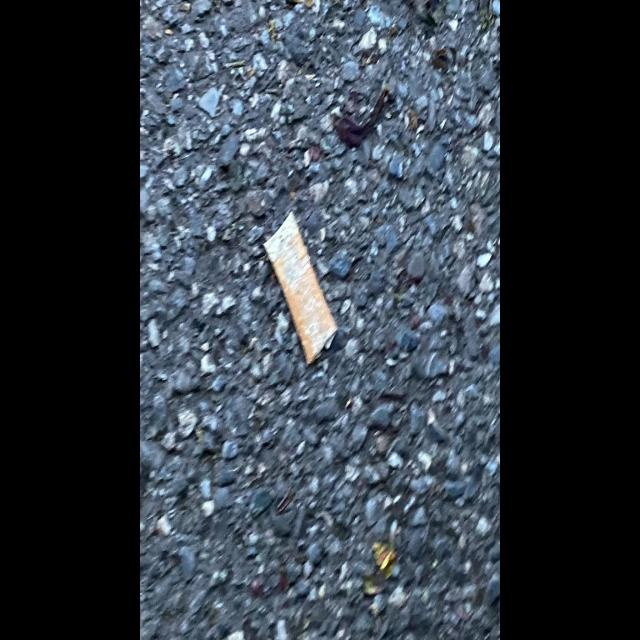other waste: (262, 207, 340, 365)
